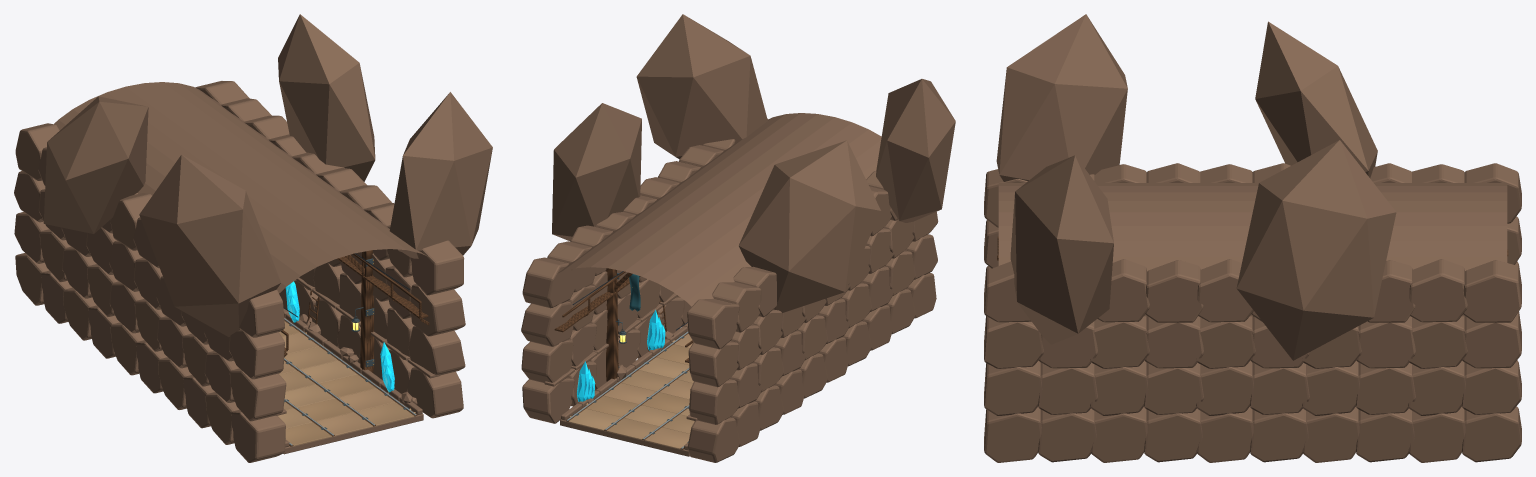
The model's file is track.glb.
The picture shows the model from 3 angles, left to right: view 1: azimuth 30°, elevation 25°; view 2: azimuth 150°, elevation 25°; view 3: azimuth 270°, elevation 25°; orthographic projection. The views are drawn at different scales.
Visible parts, largest first — view 1: track; view 2: track; view 3: track.
Boxes of the visible parts, x1=… form: track: x1=14, y1=14, x2=492, y2=462; track: x1=521, y1=14, x2=955, y2=462; track: x1=984, y1=14, x2=1521, y2=462.
Size of the model in its own units: 20.3 by 16.77 by 25.38.
17 materials, 5 textured.
